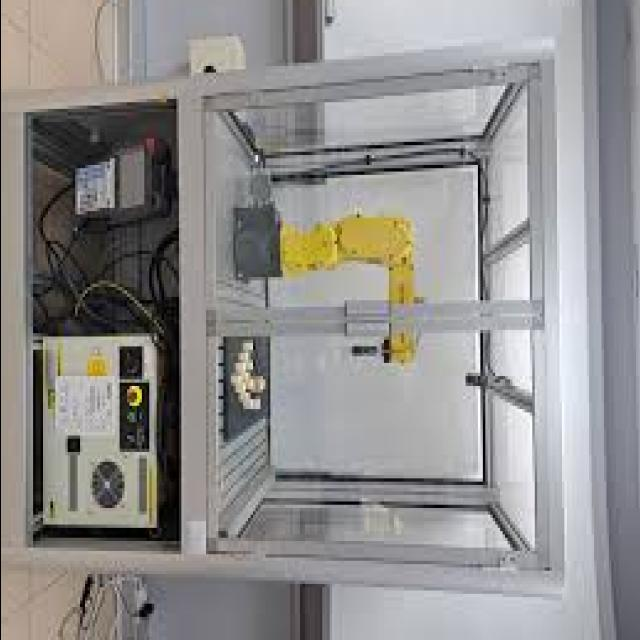Robotic-arm: (234, 190, 422, 382)
